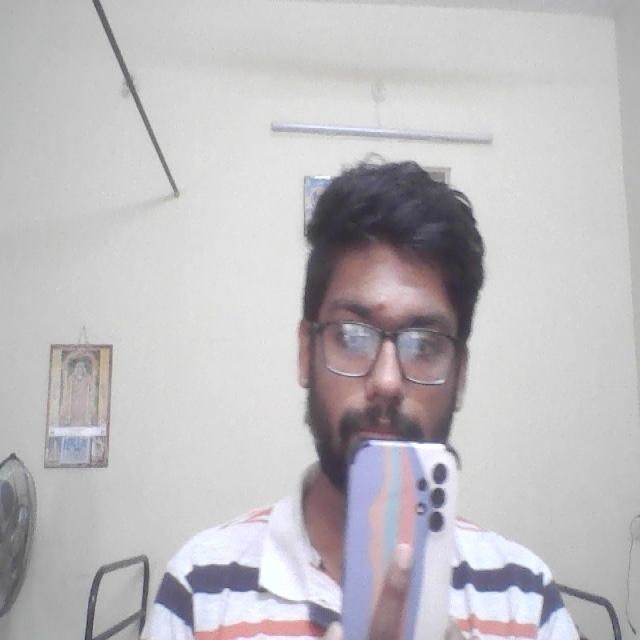Mobile: (337, 433, 466, 640)
